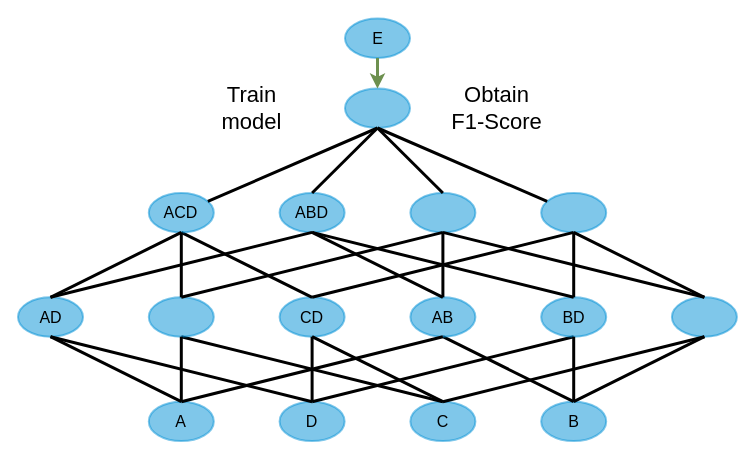
Image size: 755x459. Some labels were removed from this diagram. The shapes that lost their labels are listed below. From the top down, each one's centre as x and y in pixels, then its label:
the point at 377,107: ABCD
the point at 442,212: ABC
the point at 573,212: BCD
the point at 180,316: AC
the point at 703,316: BC
